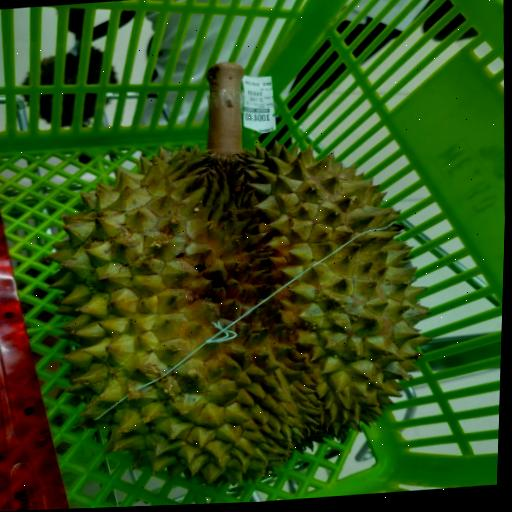rot: (26, 0, 467, 498)
